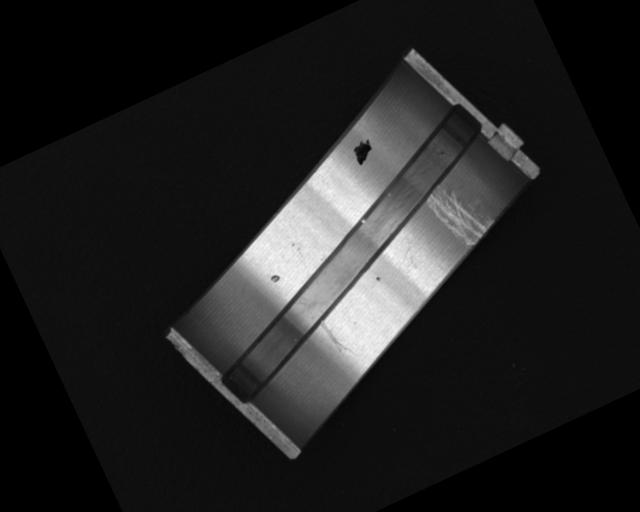blot: (349, 137, 379, 167)
bruise: (269, 273, 281, 284), (374, 273, 381, 281)
gap: (156, 100, 543, 410)
nick: (319, 313, 355, 362)
scratch: (424, 173, 499, 255)
